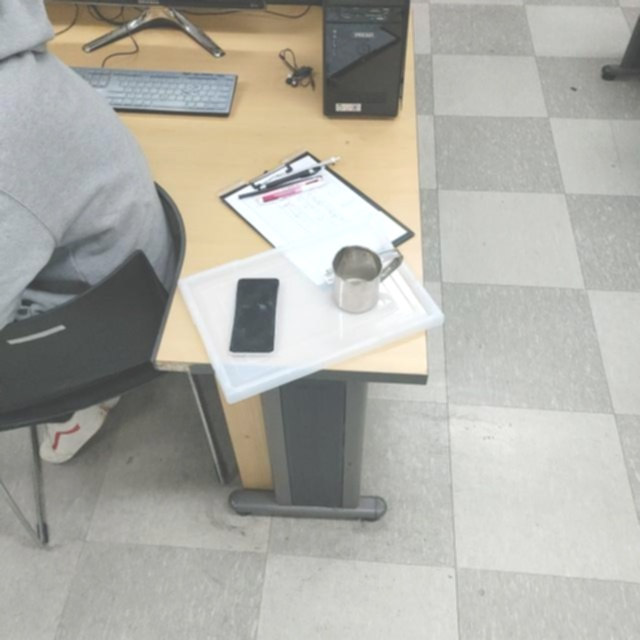cup: (329, 242, 404, 314)
phone: (229, 277, 280, 354)
